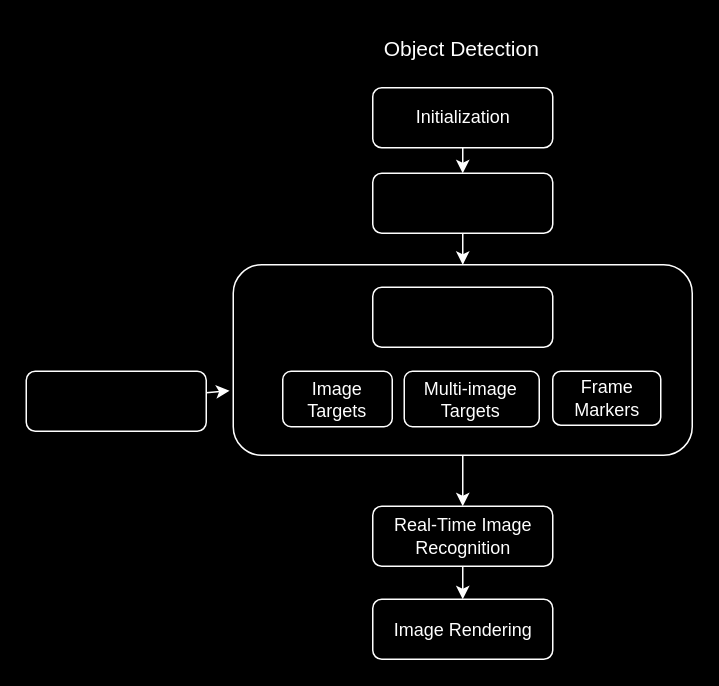
This 719x686 diagram has some shape labels left out. The centre of each missing label's shape, as x and y in pixels:
Camera Setup: pixel 462 202
Device Database: pixel 115 400
Tracker: pixel 462 316
